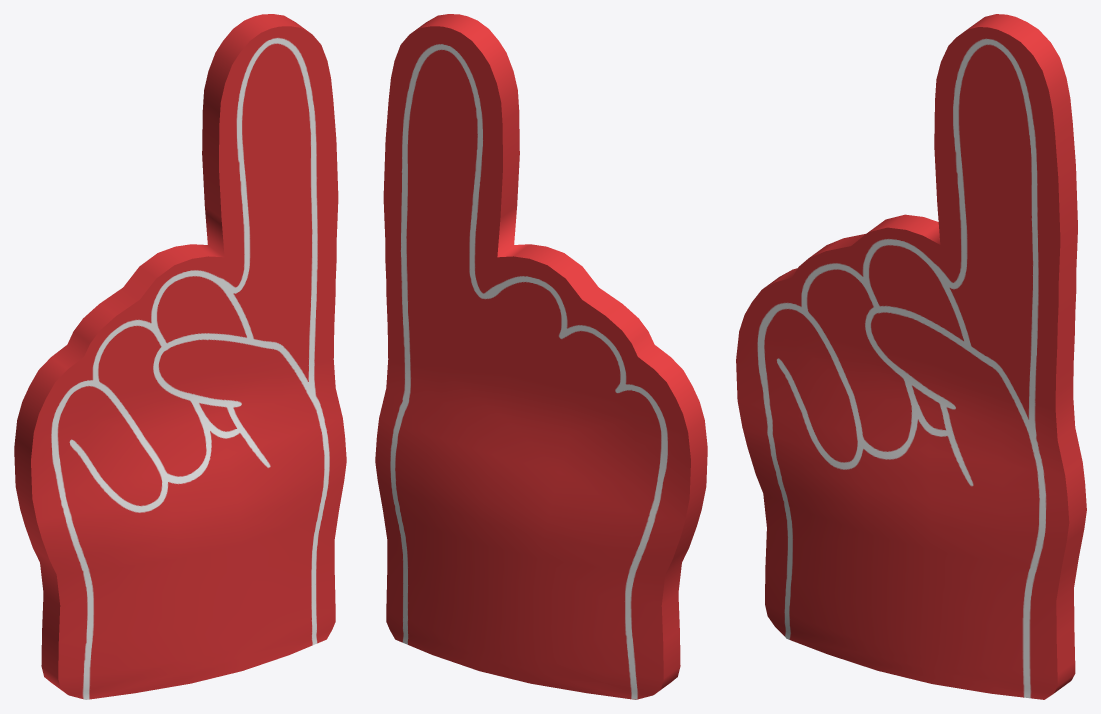
The model's file is FoamFinger.fbx.
3 renders of one model, left to right at view 1: azimuth 30°, elevation 25°; view 2: azimuth 150°, elevation 25°; view 3: azimuth 330°, elevation 25°, orthographic. The views are drawn at different scales.
Visible parts, largest first — view 1: FoamFinger; view 2: FoamFinger; view 3: FoamFinger.
Part boxes in pixels (left/top/right/bottom): FoamFinger: left=14, top=14, right=346, bottom=699; FoamFinger: left=375, top=14, right=707, bottom=699; FoamFinger: left=736, top=14, right=1086, bottom=699.
Bounding box in the file's own units: 9.28 × 17.48 × 2.17.
